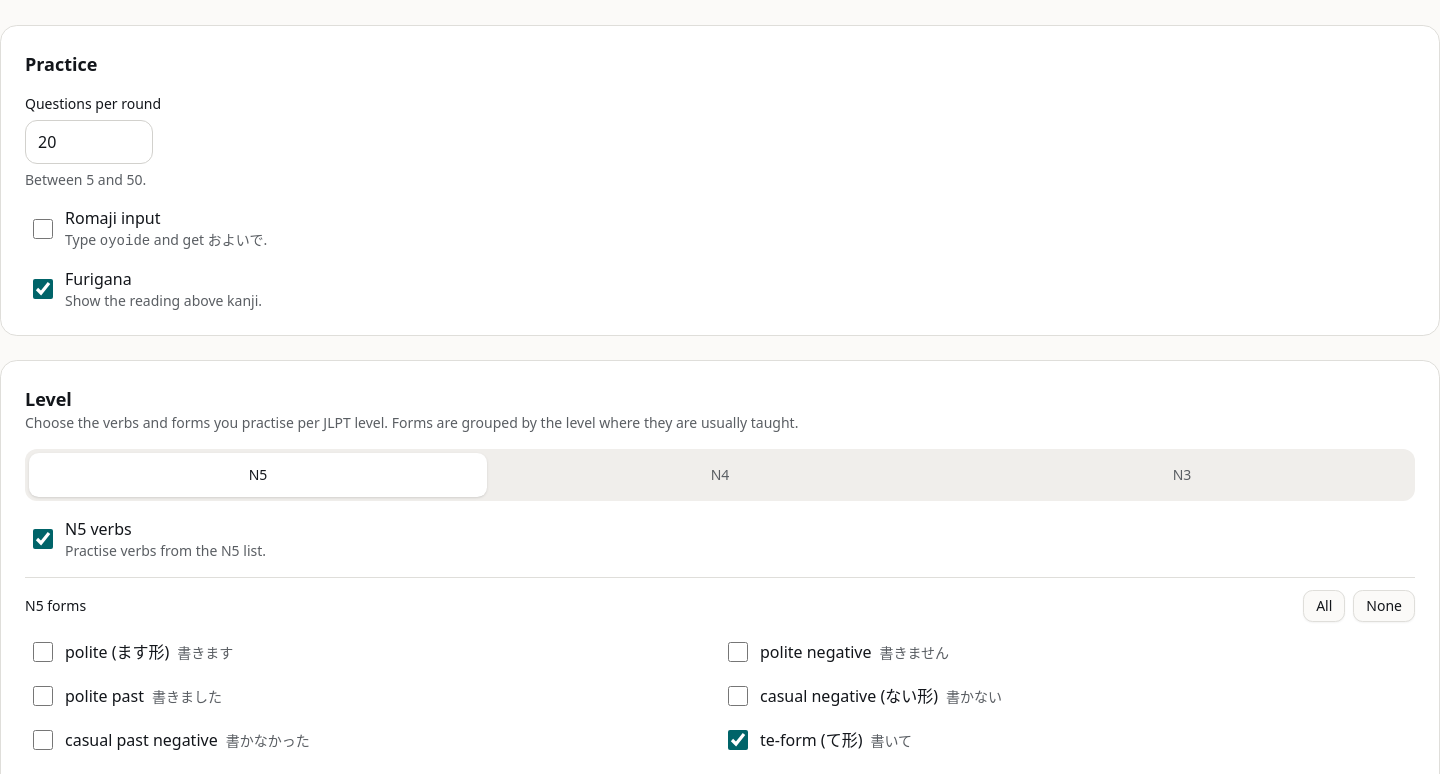
it: Settings › keeps at least one verb level switched on
The image size is (1440, 774).
Step 1. Click the checkbox labelled "N5 verbs Practise verbs from the N5 list." → (43, 539), box [33,529,53,549]
(page scrolled)
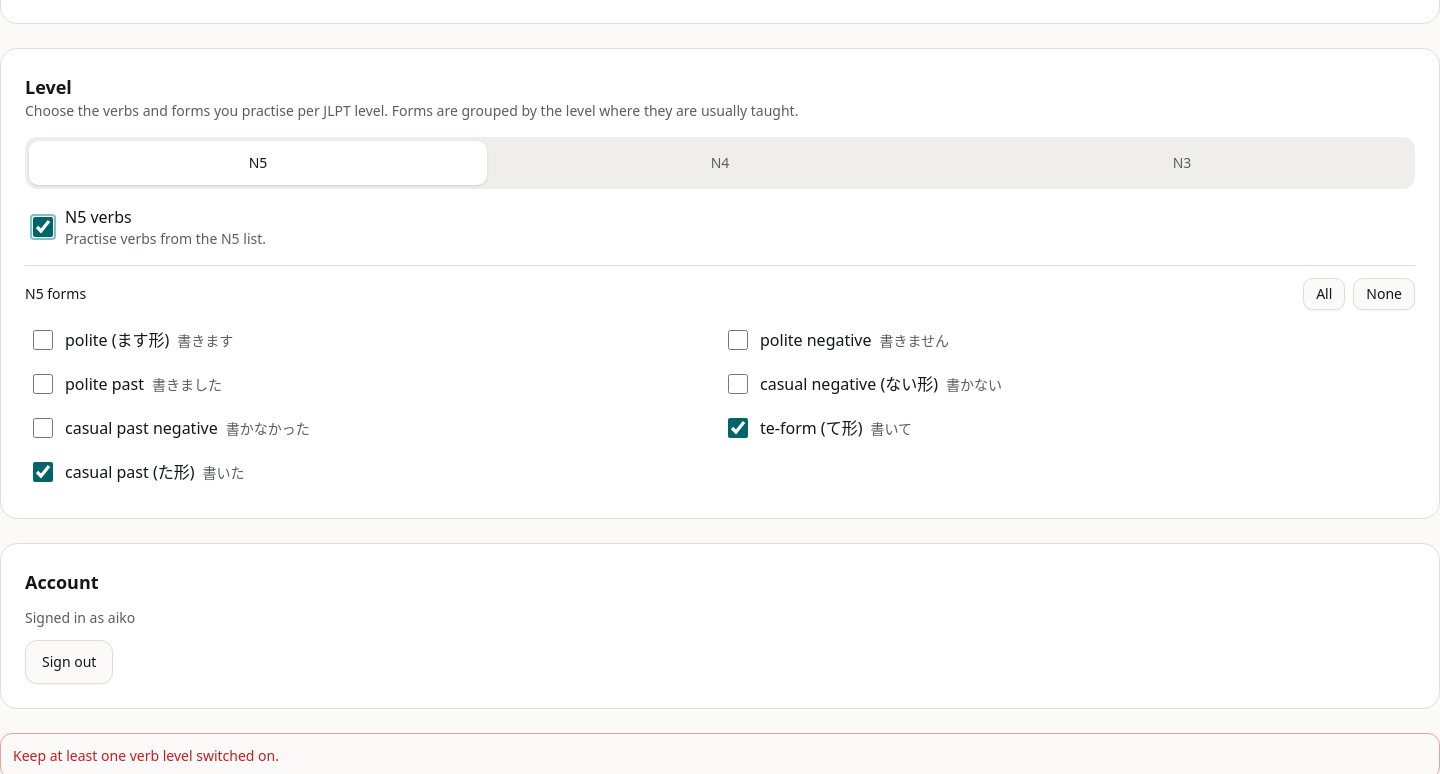
Check: the message reads "Keep at least one verb level switched on.", box [13,746,279,765]
